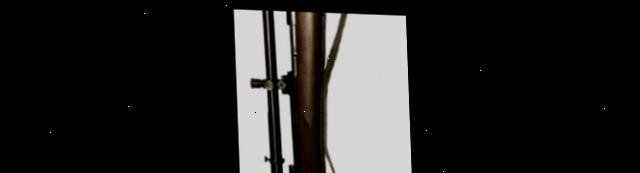rifle: (244, 7, 402, 173)
